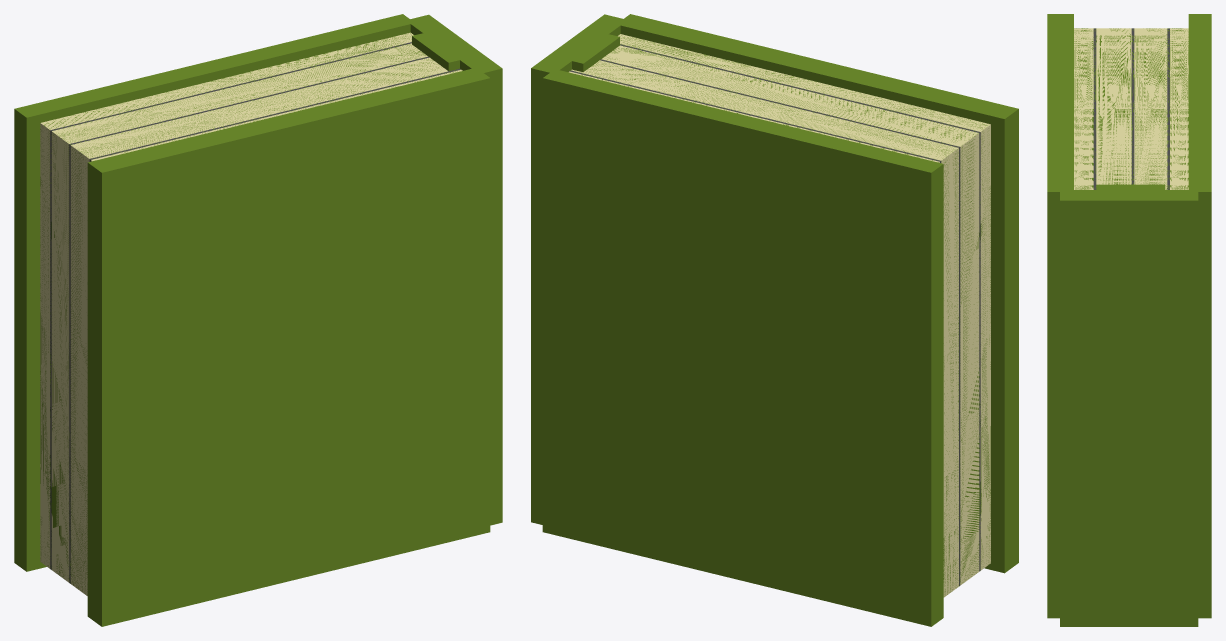
The model's file is GreenBook.dae.
The picture shows the model from 3 angles, left to right: view 1: azimuth 30°, elevation 25°; view 2: azimuth 150°, elevation 25°; view 3: azimuth 270°, elevation 25°; orthographic projection. The views are drawn at different scales.
Visible parts, largest first — view 1: Book_2 (×8); view 2: Book_2 (×8); view 3: Book_2 (×8).
Part boxes in pixels (bbox=[...]): Book_2 (×8): bbox=[14, 14, 502, 626]; Book_2 (×8): bbox=[531, 14, 1018, 626]; Book_2 (×8): bbox=[1047, 14, 1211, 626].
Bounding box in the file's own units: 9.66 × 3.6 × 10.29.
